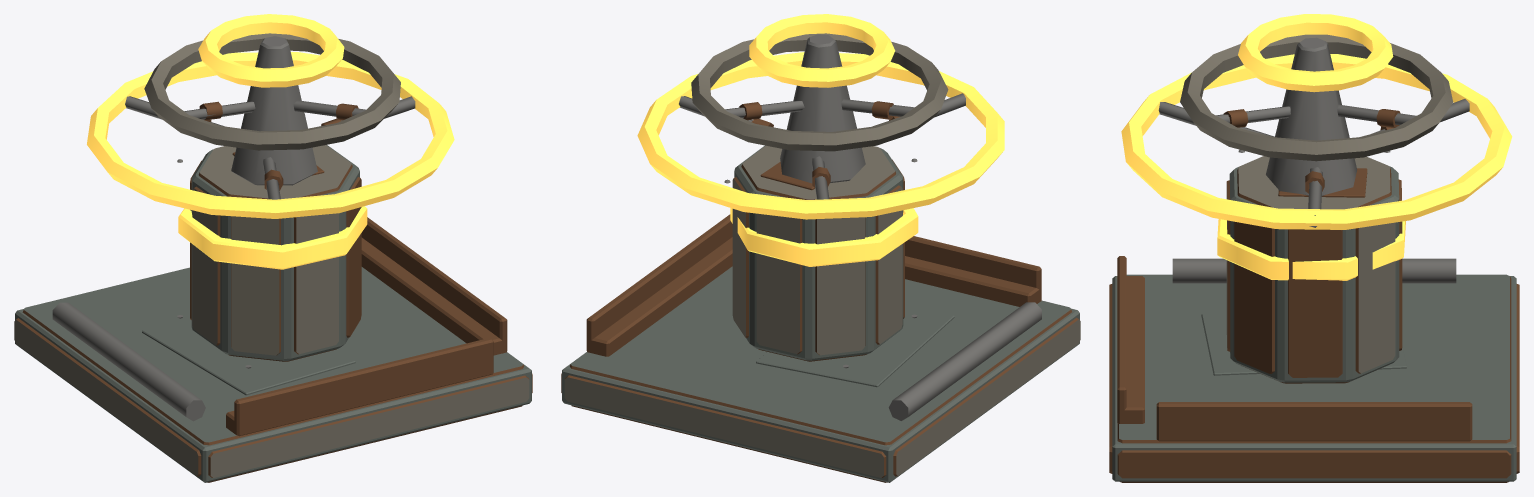
Rendered from R4X_SupportTurretDeployer.fbx.
3 renders of one model, left to right at view 1: azimuth 30°, elevation 25°; view 2: azimuth 150°, elevation 25°; view 3: azimuth 270°, elevation 25°, orthographic. The views are drawn at different scales.
Visible parts, largest first — view 1: R4X_SupportTurretDeployer_Body, R4X_SupportTurretDeployer_Pod; view 2: R4X_SupportTurretDeployer_Body, R4X_SupportTurretDeployer_Pod; view 3: R4X_SupportTurretDeployer_Pod, R4X_SupportTurretDeployer_Body.
Part boxes in pixels (x1,y1,x2,y2): R4X_SupportTurretDeployer_Body: (14,217,532,482); R4X_SupportTurretDeployer_Pod: (87,14,454,368); R4X_SupportTurretDeployer_Body: (561,214,1080,482); R4X_SupportTurretDeployer_Pod: (637,14,1004,368); R4X_SupportTurretDeployer_Pod: (1121,14,1512,383); R4X_SupportTurretDeployer_Body: (1109,256,1519,482).
Size of the model in its own units: 0.52 by 0.5 by 0.52.
